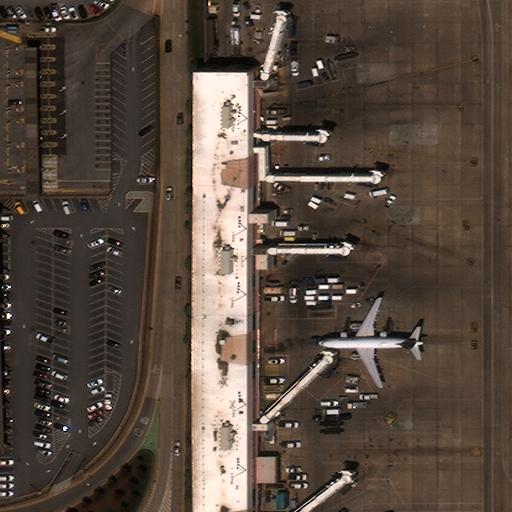Medium Civil Transport: (316, 297, 424, 388)
